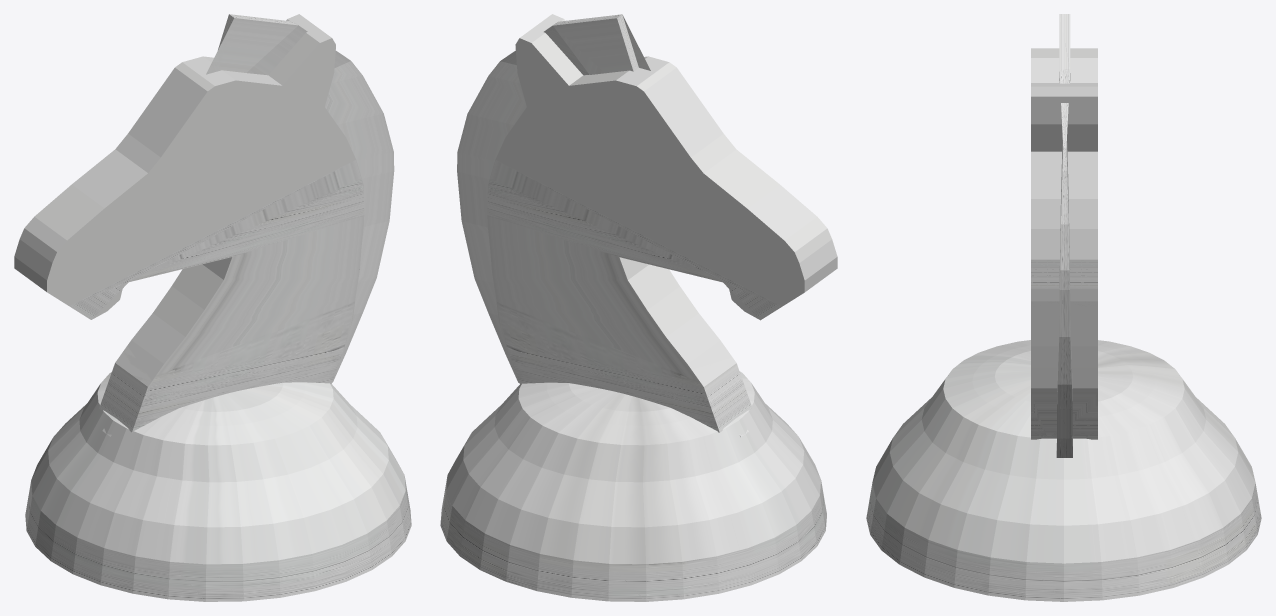
The model's file is Black Knight.glb.
The picture shows the model from 3 angles, left to right: view 1: azimuth 30°, elevation 25°; view 2: azimuth 150°, elevation 25°; view 3: azimuth 270°, elevation 25°; orthographic projection. The views are drawn at different scales.
Parts seen in each view (by area): view 1: Plane; view 2: Plane; view 3: Plane.
Boxes of the visible parts, x1=… form: Plane: x1=14, y1=14, x2=411, y2=601; Plane: x1=440, y1=14, x2=837, y2=601; Plane: x1=866, y1=14, x2=1261, y2=601.
Size of the model in its own units: 2.46 by 3.26 by 2.28.
Materials: 1 (1 with a texture image).
